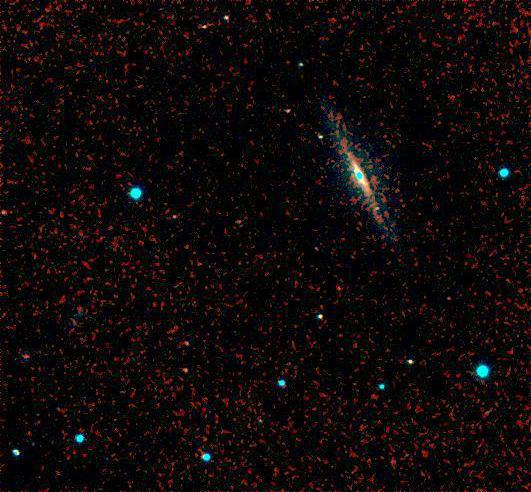star: (363, 191, 393, 221)
